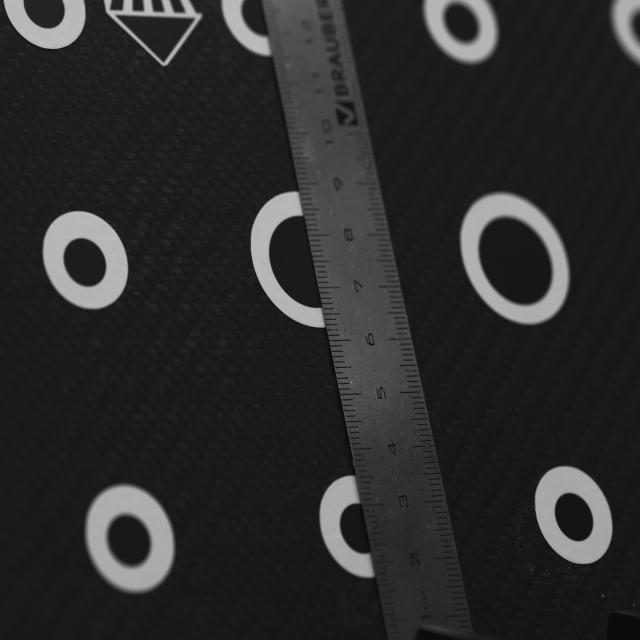circle point: (479, 216, 553, 306), (270, 215, 340, 308), (108, 514, 151, 565), (65, 238, 106, 288), (555, 493, 594, 542), (340, 502, 371, 554), (444, 5, 478, 43), (24, 1, 65, 30), (240, 1, 270, 37)
white circle: (460, 193, 570, 325), (251, 191, 326, 327), (85, 485, 175, 594), (43, 209, 129, 311), (535, 466, 613, 564), (424, 0, 498, 65), (4, 0, 86, 50), (221, 0, 271, 57)
